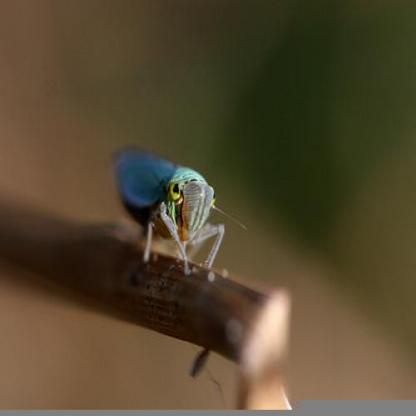Green-Leafhopper: (110, 139, 242, 277)
